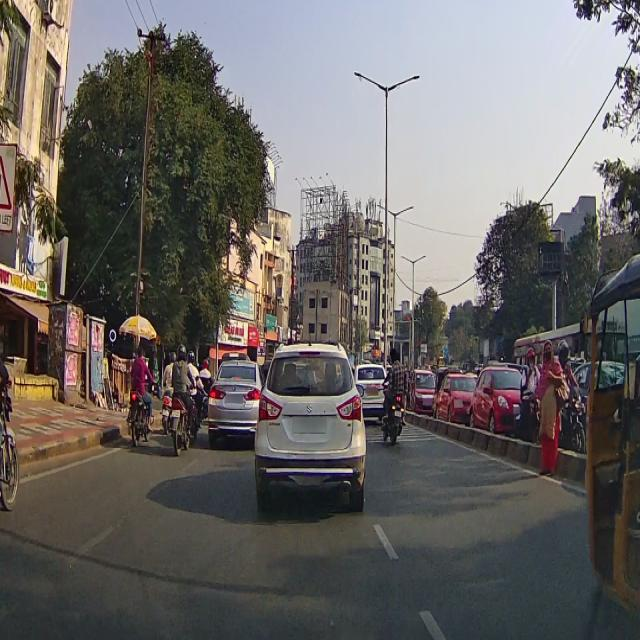car ahead at: (256, 344, 369, 511), (208, 356, 262, 439)
